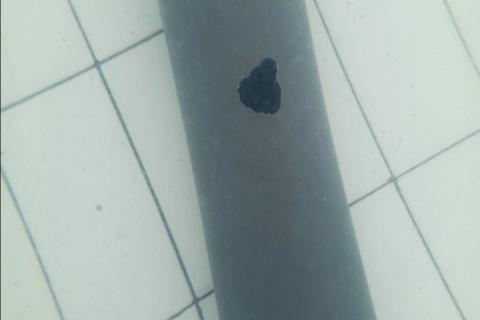kebocoran: (236, 57, 283, 118)
